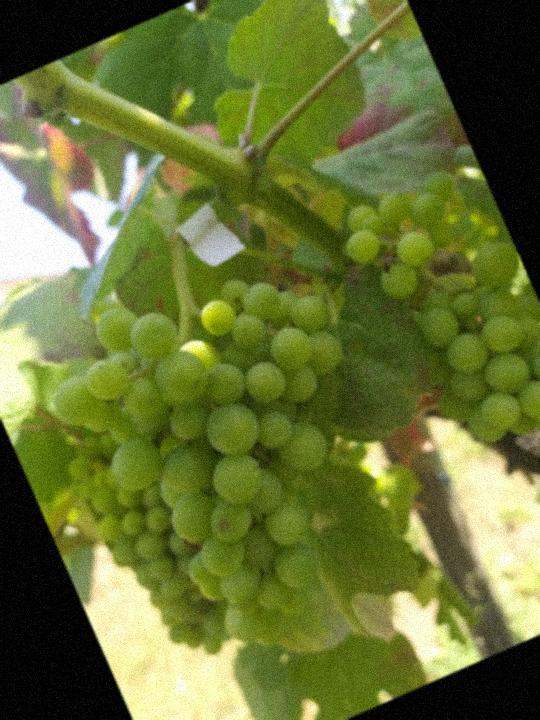grape: (23, 225, 449, 693)
